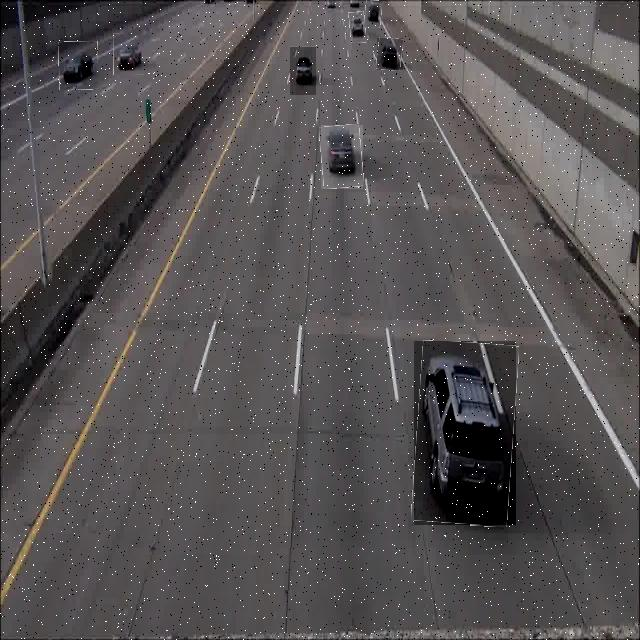Car: (414, 342, 516, 526), (321, 125, 363, 189), (59, 42, 98, 90), (113, 33, 144, 75), (290, 46, 316, 95), (377, 38, 403, 70), (349, 12, 366, 43), (364, 0, 381, 28)
